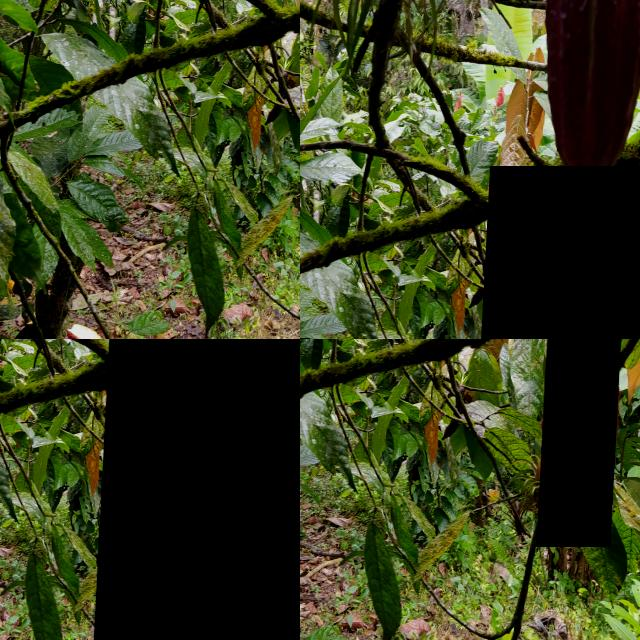Sana: (97, 339, 300, 640), (477, 166, 640, 339), (542, 339, 625, 546)
